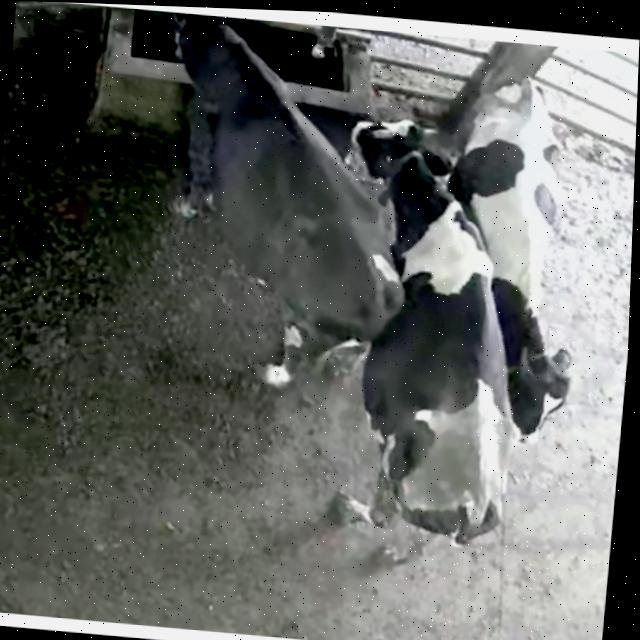drink: (112, 6, 308, 151)
